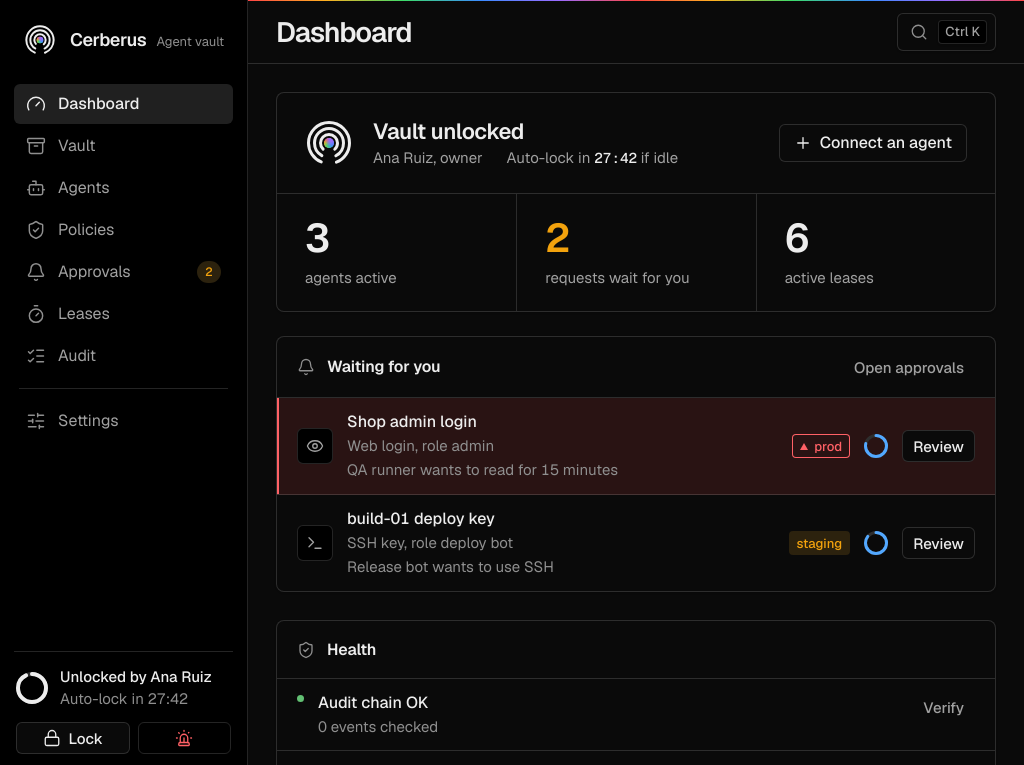
Test: command palette › has actions for CSV import and the connect guide
Later steps or results of the test are not shown.
Expected: the heading "Dashboard" is shown, left=276, top=14, right=412, bottom=48
Type keys "{Control>}k{/Control}"
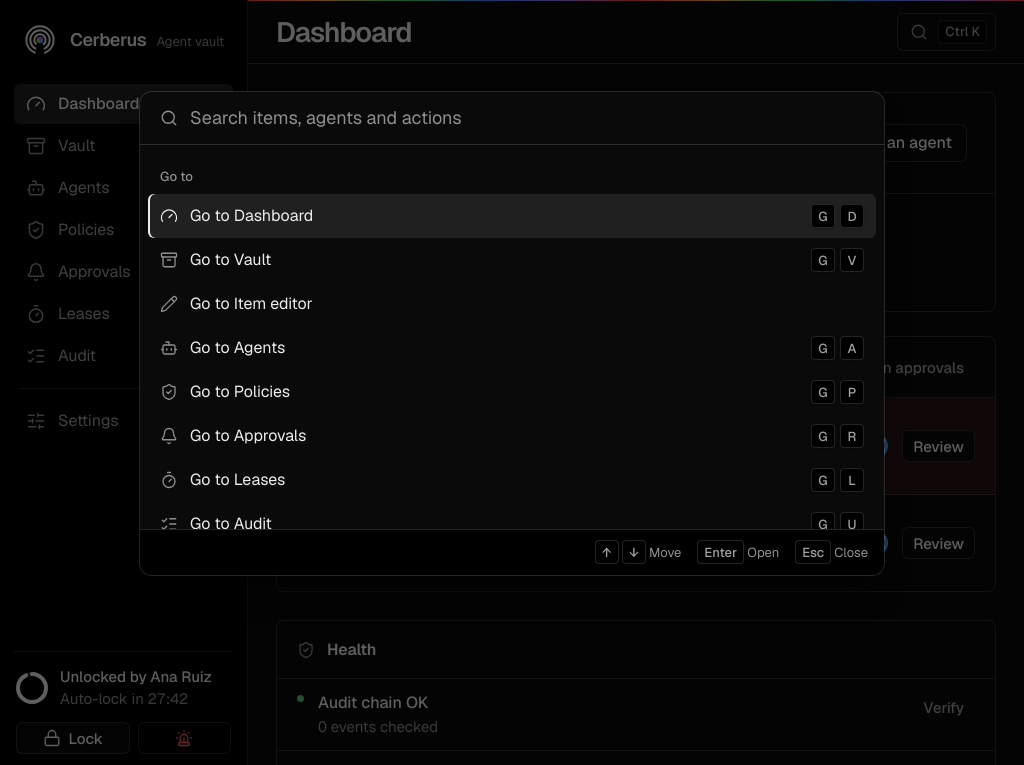
In the dropdown: [527, 118] box left=190, top=106, right=864, bottom=130, type "bitwarden"
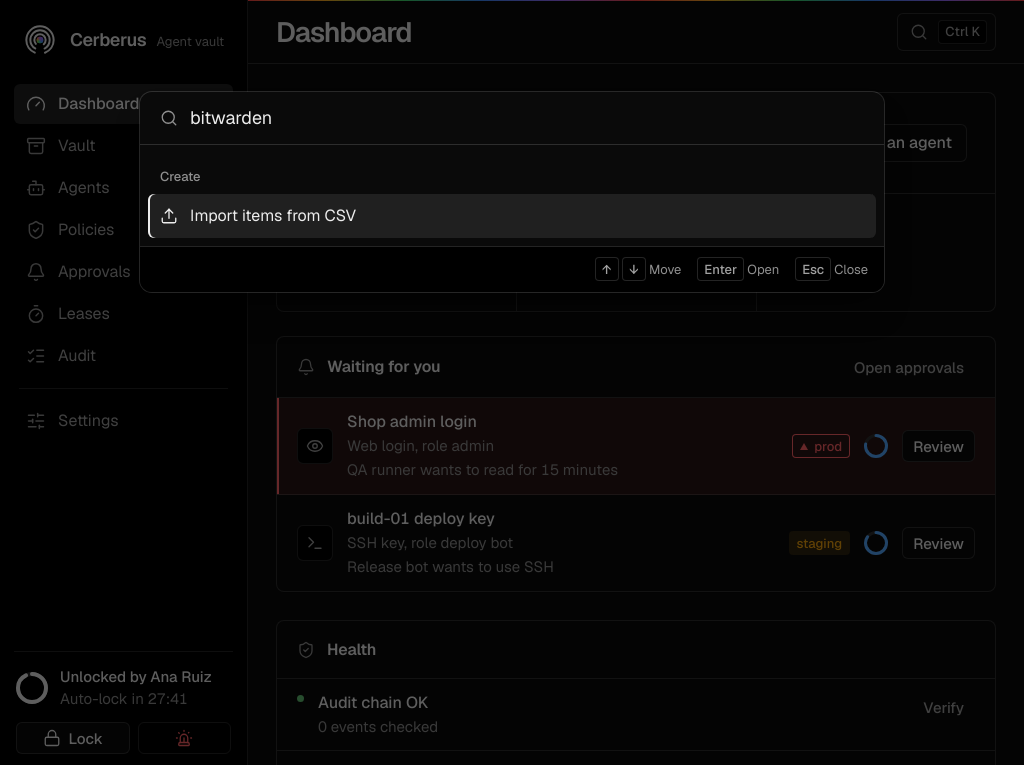
Now the option "Import items from CSV" is shown, box left=148, top=194, right=876, bottom=238
